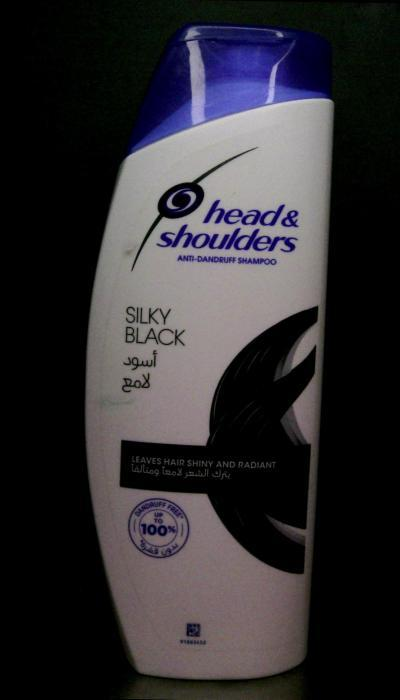tear_unacc: (93, 381, 137, 416), (116, 237, 148, 262)
